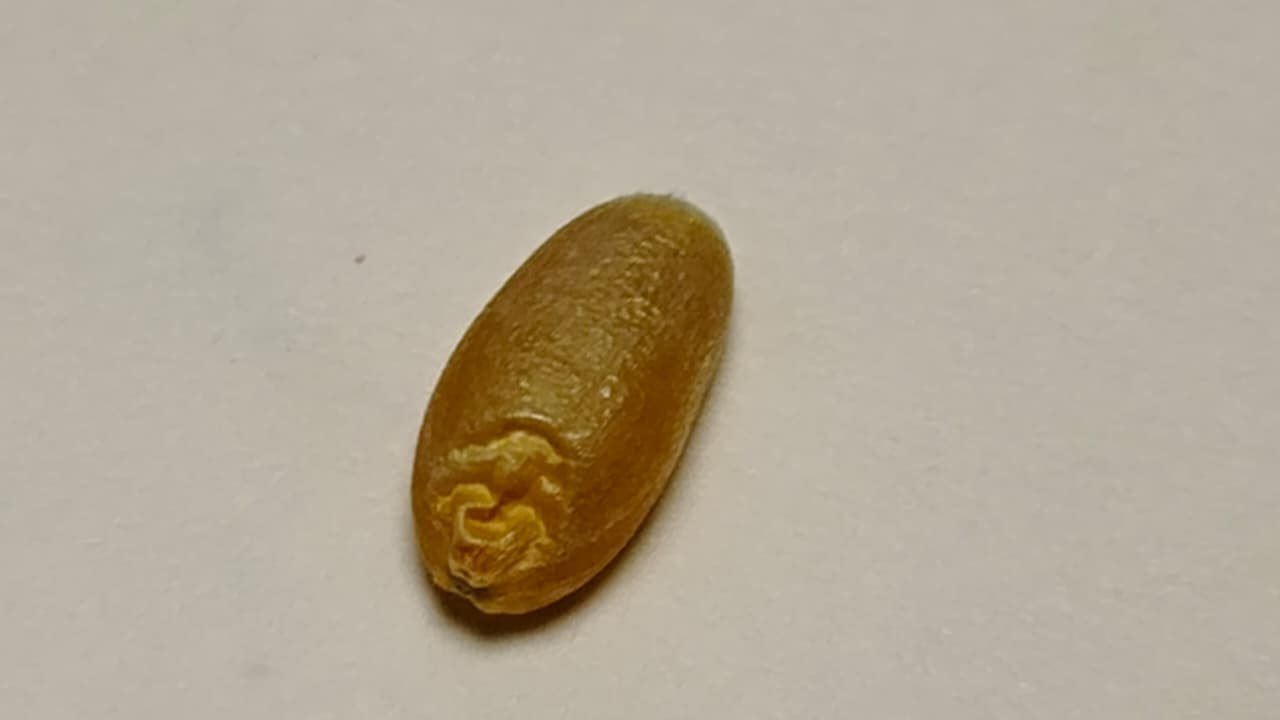healthy: (411, 193, 732, 613)
